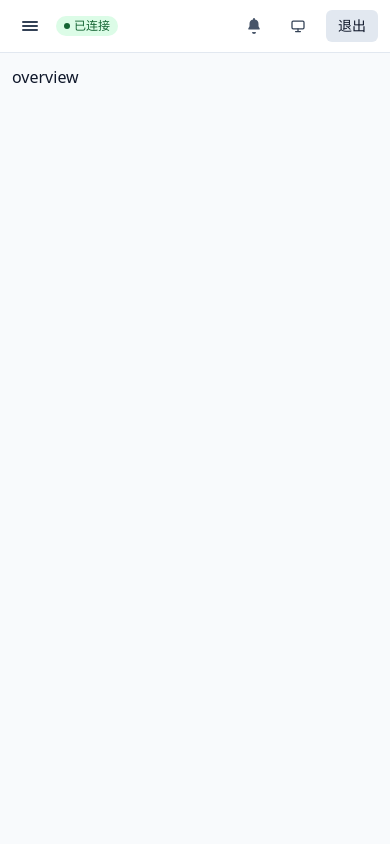
it: AppLayout › opens the mobile drawer from the menu button and closes it on navigation
The image size is (390, 844).
Click the button named "打开菜单": (30, 26) [12, 8, 48, 44]
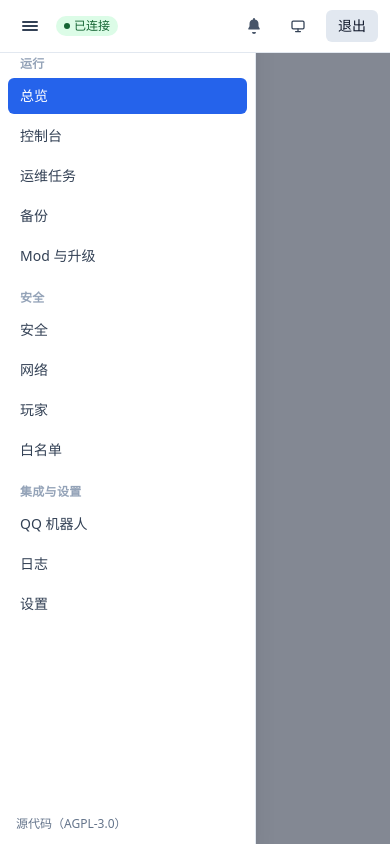
Now the number of navigation bars "主导航" is 2
Click the link "网络": (34, 370) [20, 360, 48, 379]
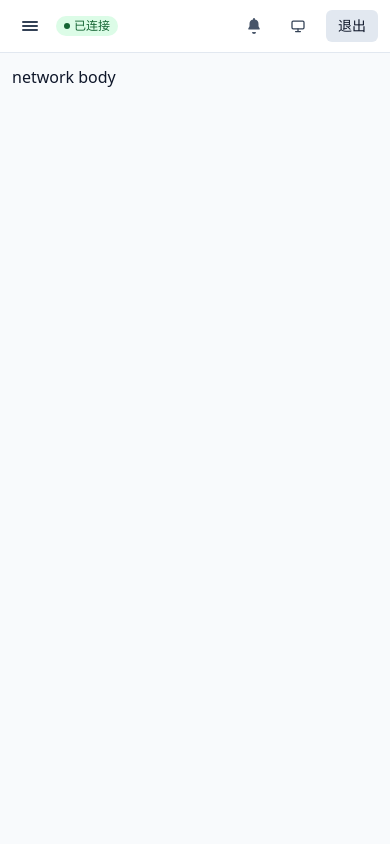
Now the text "network body" is shown, box [12, 66, 116, 88]
